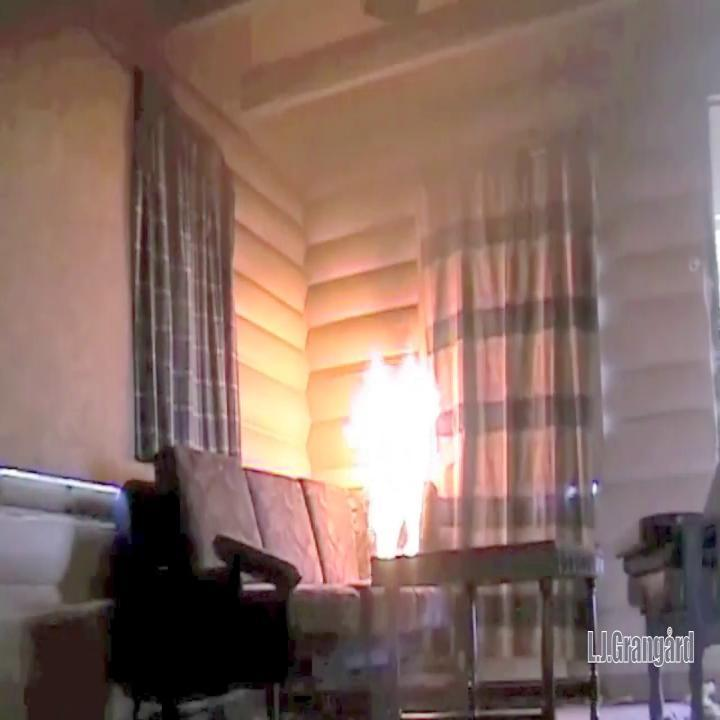fire: (334, 344, 453, 576)
